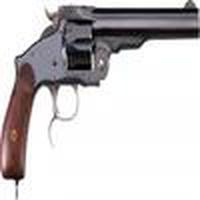gun: (3, 5, 200, 183)
